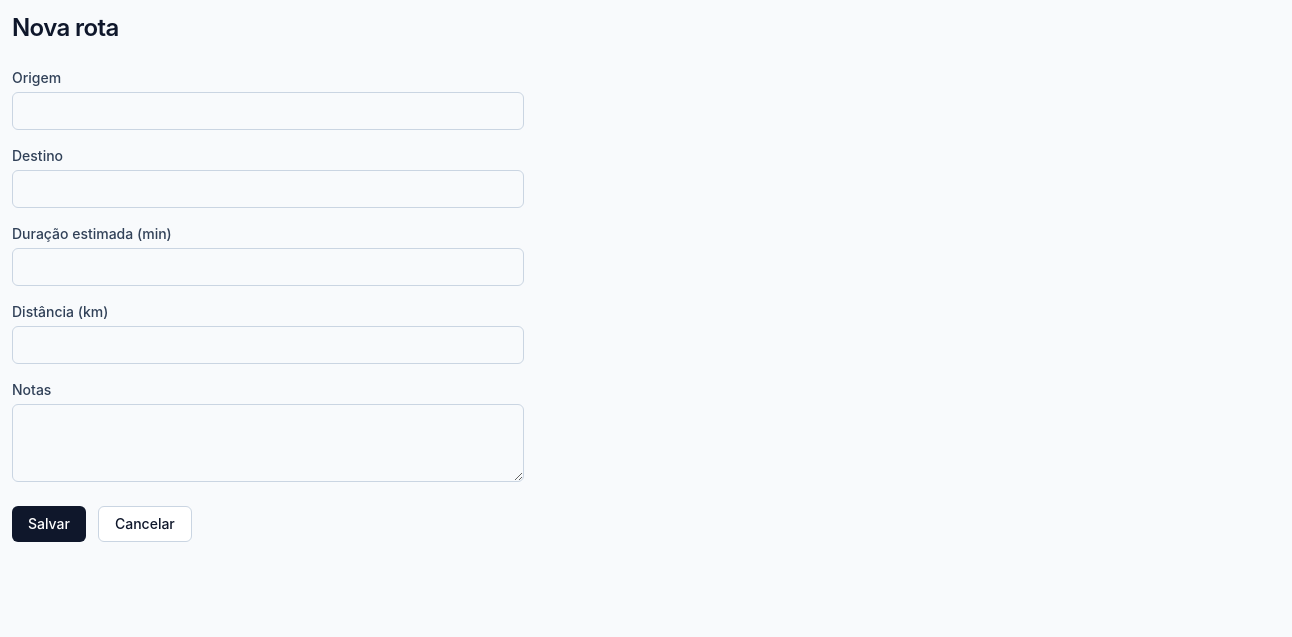
Test: TransportRouteFormPage › requires origin and destination
The width and height of the screenshot is (1292, 637).
Click the button "Salvar".
click(49, 524)  # box [12, 506, 86, 542]
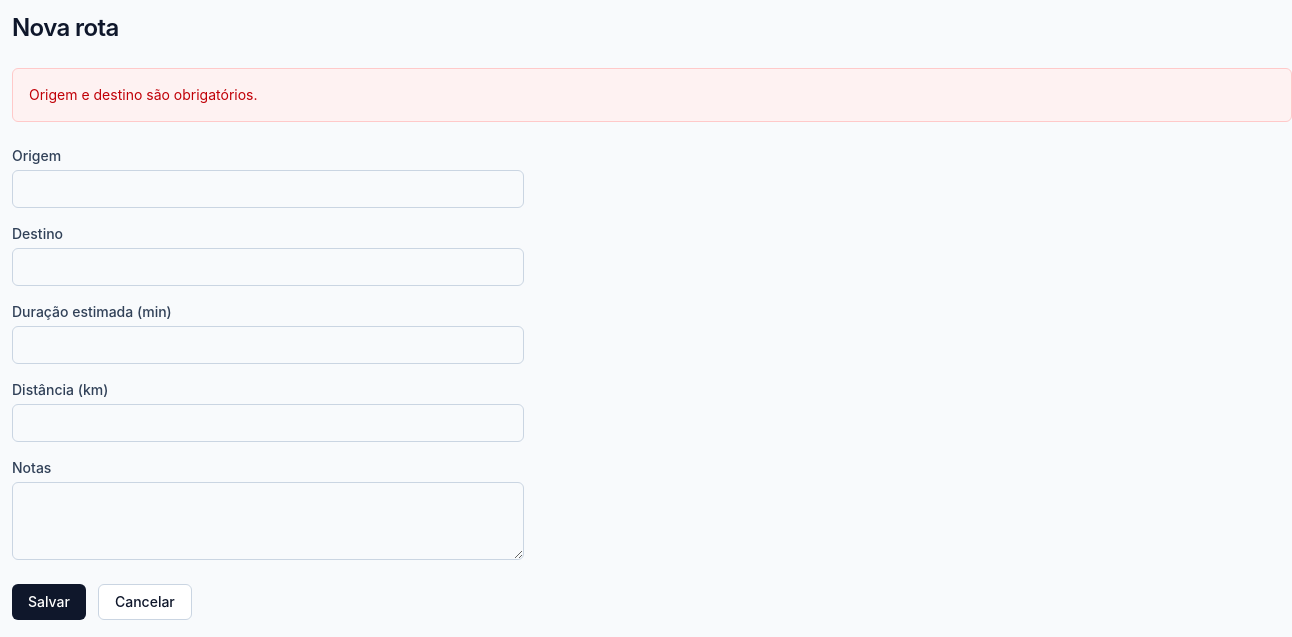
Now the text "Origem e destino são obrigatórios." is shown, box [12, 68, 1291, 122]
